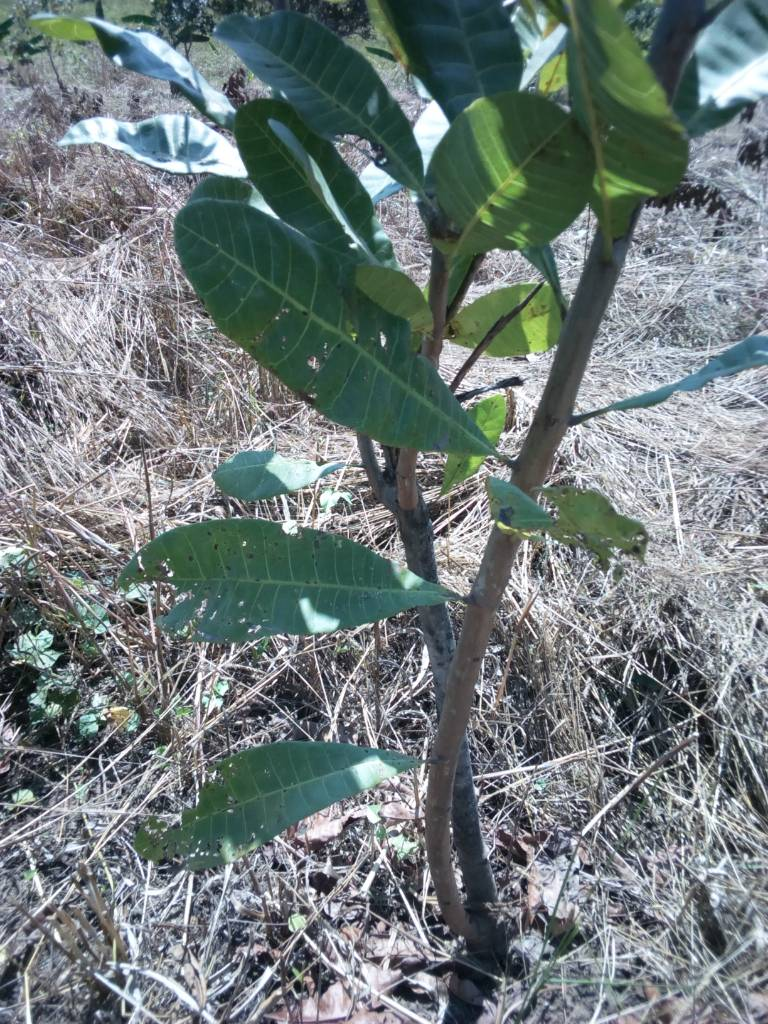Anthracnose: (122, 524, 461, 647)
